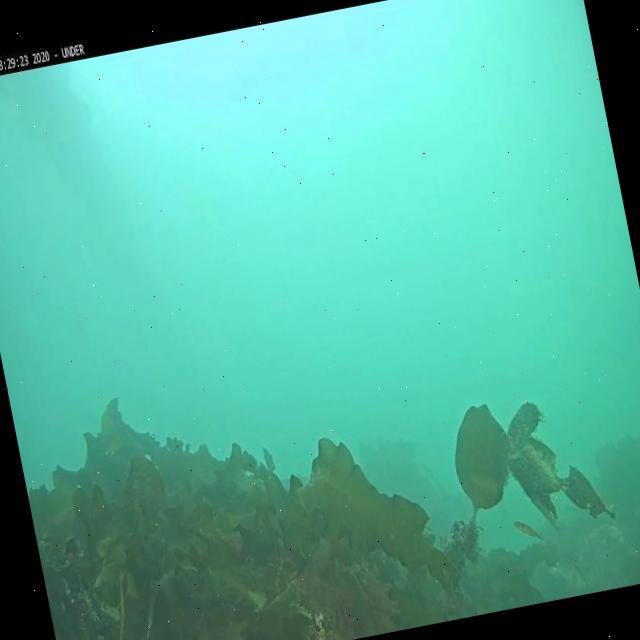fish: (514, 517, 546, 546)
